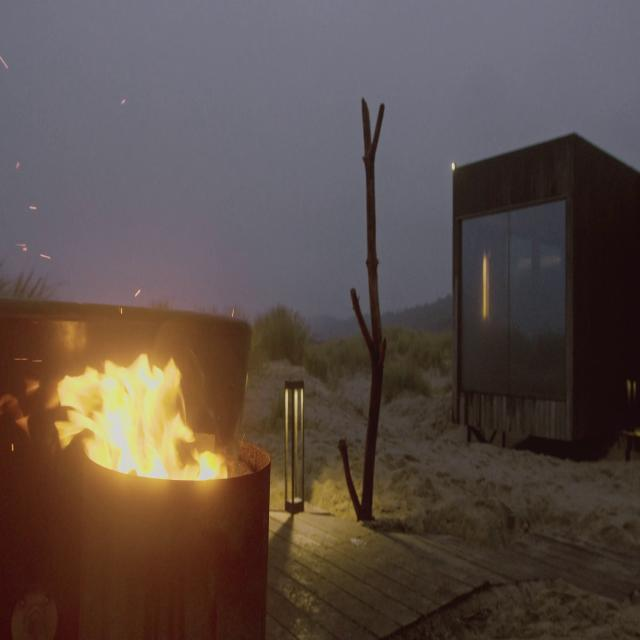Fire: (56, 339, 224, 489)
